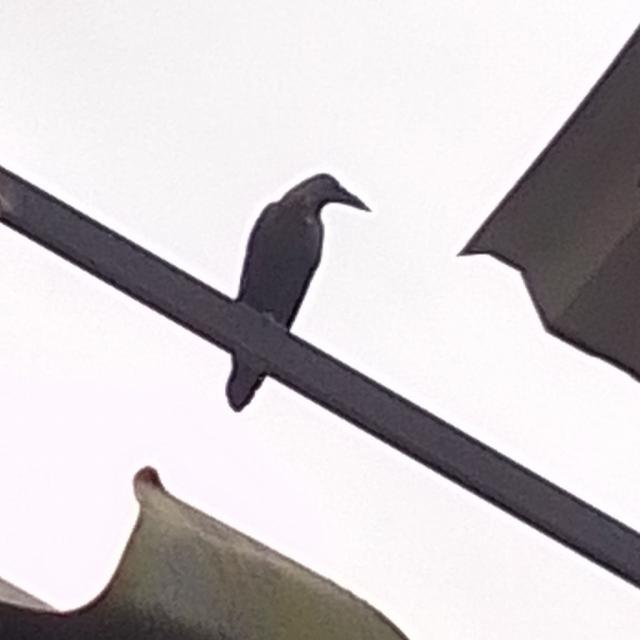bird: (217, 168, 376, 418)
